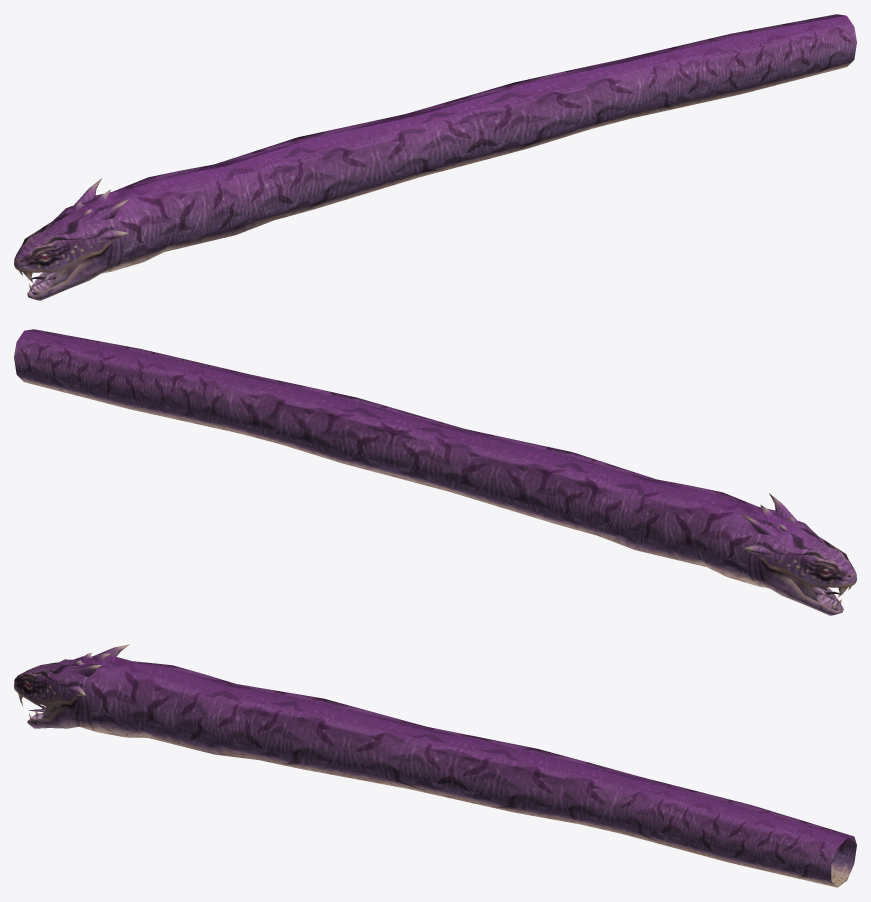
The model's file is skBasiliskMesh.obj.
3 renders of one model, top to bottom at view 1: azimuth 30°, elevation 25°; view 2: azimuth 150°, elevation 25°; view 3: azimuth 330°, elevation 25°, orthographic.
Parts seen in each view (by area): view 1: material_1, material_0, material_2; view 2: material_1, material_0, material_2; view 3: material_1, material_2, material_0.
Boxes of the visible parts, x1,y1,x2,y2 form: material_1: [180, 59, 643, 243]; material_0: [14, 171, 207, 300]; material_2: [622, 14, 856, 117]; material_1: [227, 374, 690, 558]; material_0: [663, 486, 856, 615]; material_2: [14, 329, 248, 432]; material_1: [175, 674, 640, 833]; material_2: [615, 777, 856, 887]; material_0: [14, 644, 202, 746].
Size of the model in its own units: 622 by 68.89 by 55.56.
Materials: 4 (4 with a texture image).
